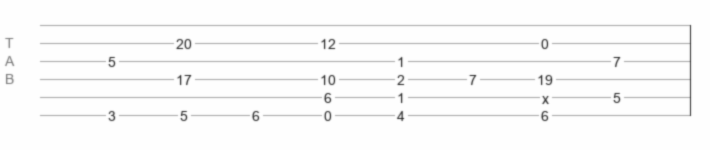0: (324, 108, 332, 118), (541, 36, 549, 46)
1: (397, 90, 405, 100), (397, 54, 405, 64)
10: (320, 72, 336, 82)
12: (320, 36, 336, 46)
17: (176, 72, 192, 82)
19: (537, 72, 553, 82)
2: (397, 72, 405, 82)
20: (176, 36, 192, 46)
3: (108, 108, 116, 118)
4: (397, 108, 405, 118)
5: (108, 54, 116, 64), (180, 108, 188, 118), (613, 90, 621, 100)
6: (252, 108, 260, 118), (324, 90, 332, 100), (541, 108, 549, 118)
7: (469, 72, 477, 82), (613, 54, 621, 64)
x: (542, 91, 549, 99)
